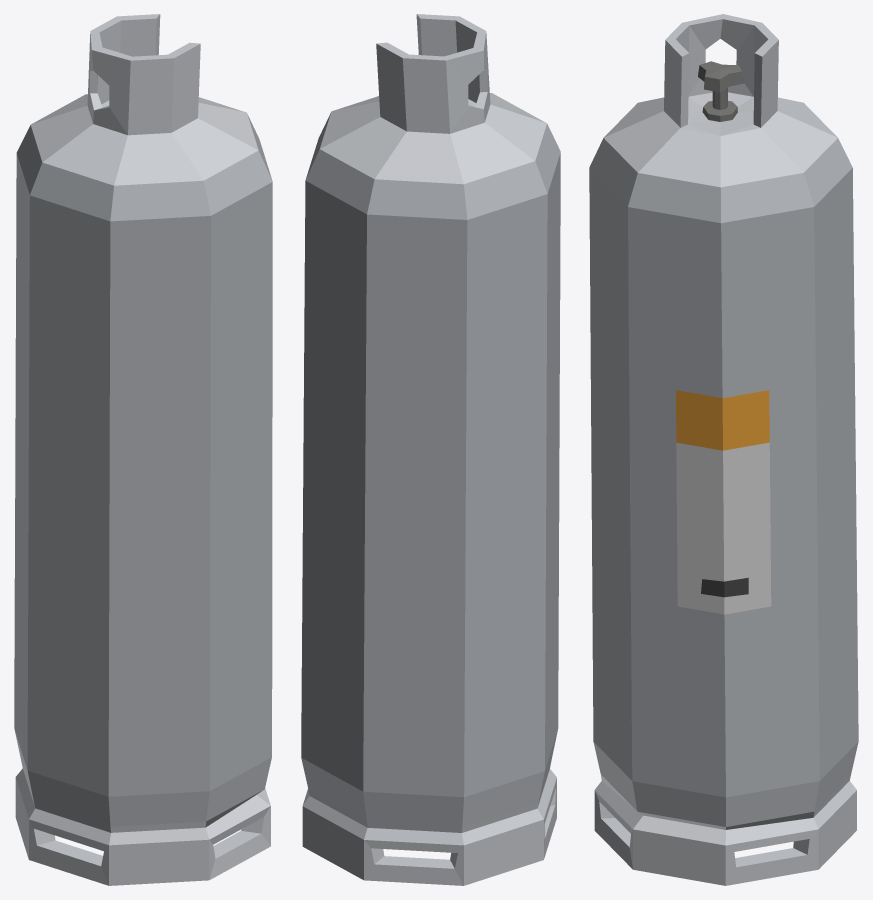
The model's file is SM_Prop_Propane_Tall_01.fbx.
3 views of the same model, side by side, from view 1: azimuth 30°, elevation 25°; view 2: azimuth 150°, elevation 25°; view 3: azimuth 270°, elevation 25° (orthographic).
Parts seen in each view (by area): view 1: SM_Prop_Propane_Tall_01; view 2: SM_Prop_Propane_Tall_01; view 3: SM_Prop_Propane_Tall_01.
Boxes of the visible parts, bbox=[...] form: SM_Prop_Propane_Tall_01: bbox=[14, 14, 272, 885]; SM_Prop_Propane_Tall_01: bbox=[301, 14, 560, 885]; SM_Prop_Propane_Tall_01: bbox=[589, 14, 858, 885].
Bounding box in the file's own units: 28.83 × 94.75 × 29.25.
